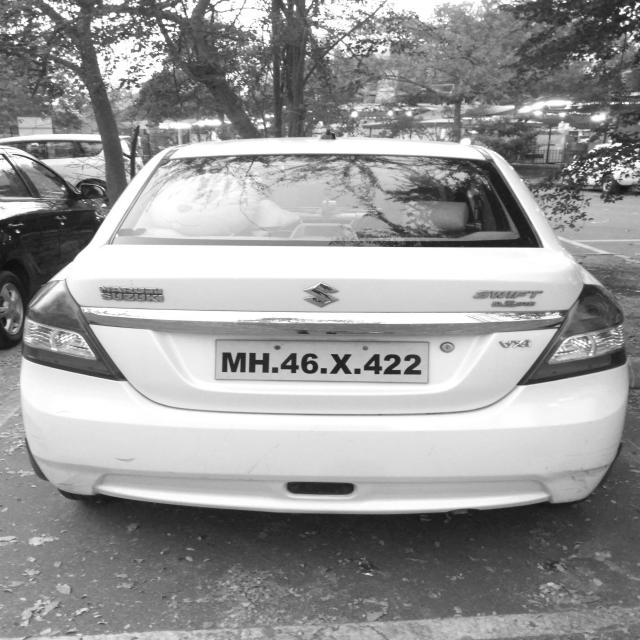car: (16, 134, 632, 526)
license-plate: (220, 339, 428, 386)
